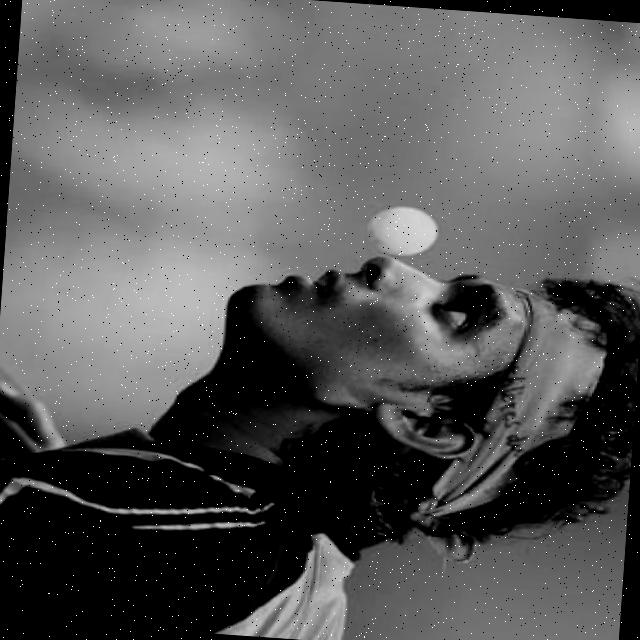ping-pong-ball: (366, 204, 440, 256)
